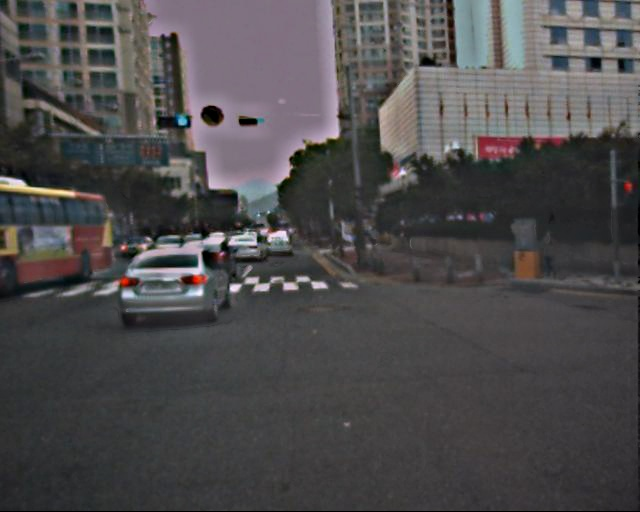person: (537, 231, 557, 280)
